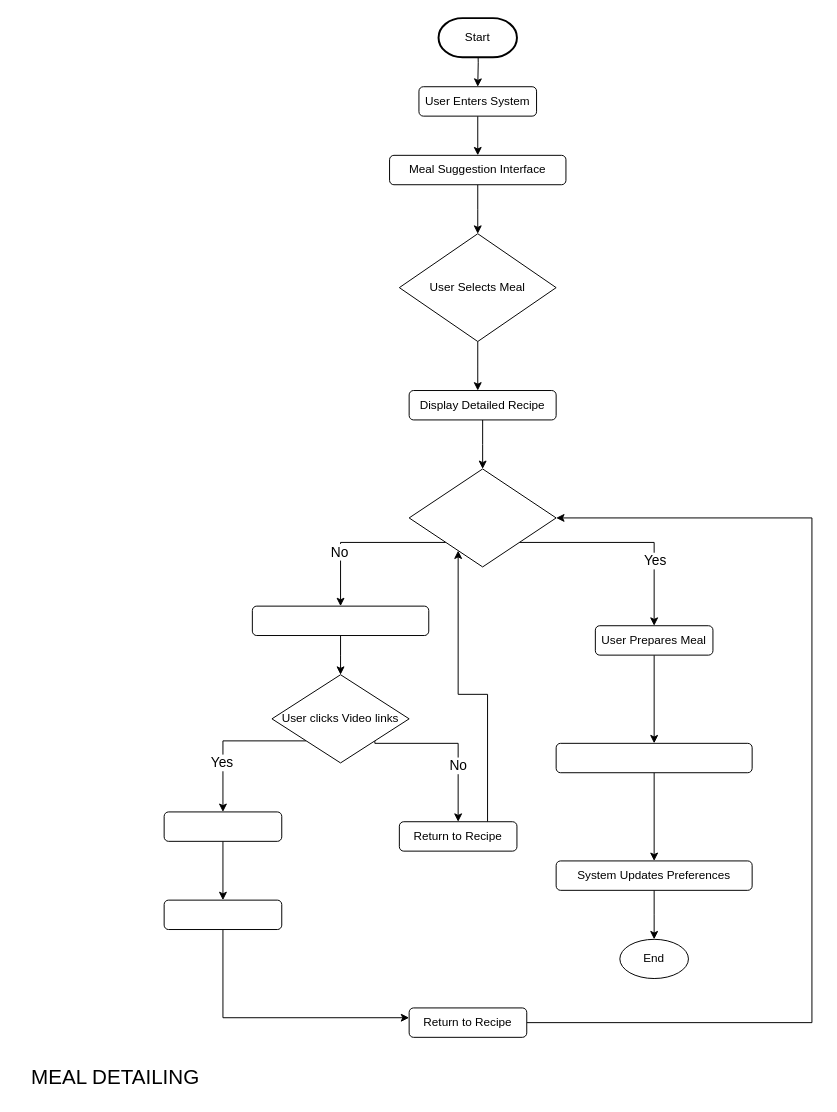
Some shapes in this 837 by 1112 pixel diagram are drawn without their labels. Each missing label, with the centre of its shape:
"Display Youtube Video Link" belongs at (x=340, y=620).
"Is User Satisfied?" belongs at (x=482, y=517).
"Open Youtube Video" belongs at (x=222, y=826).
"Optional: User Rates Recipe" belongs at (x=653, y=757).
"User Watches Video" belongs at (x=222, y=914).
